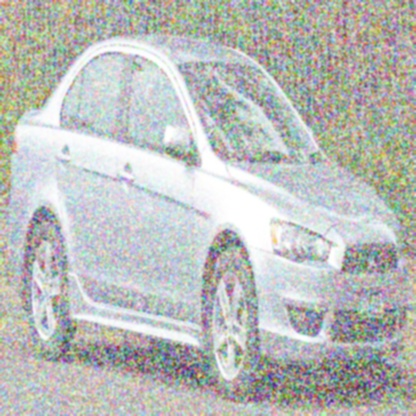Vehicle: (4, 32, 411, 405)
